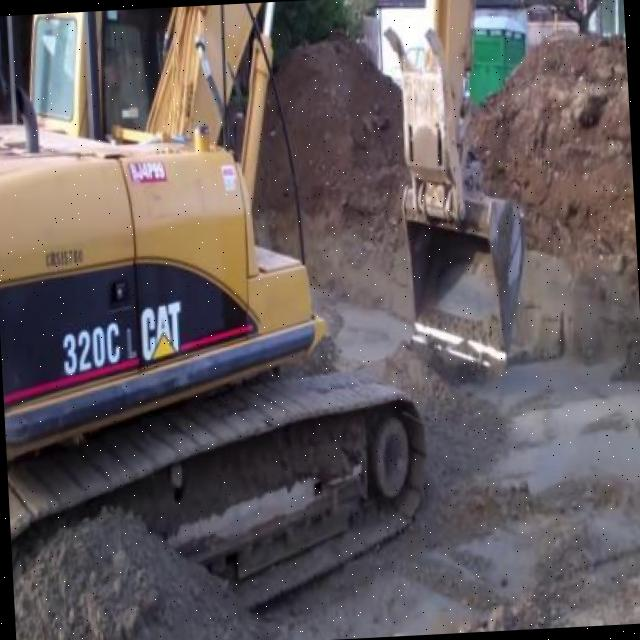Excavator: (0, 0, 544, 626)
